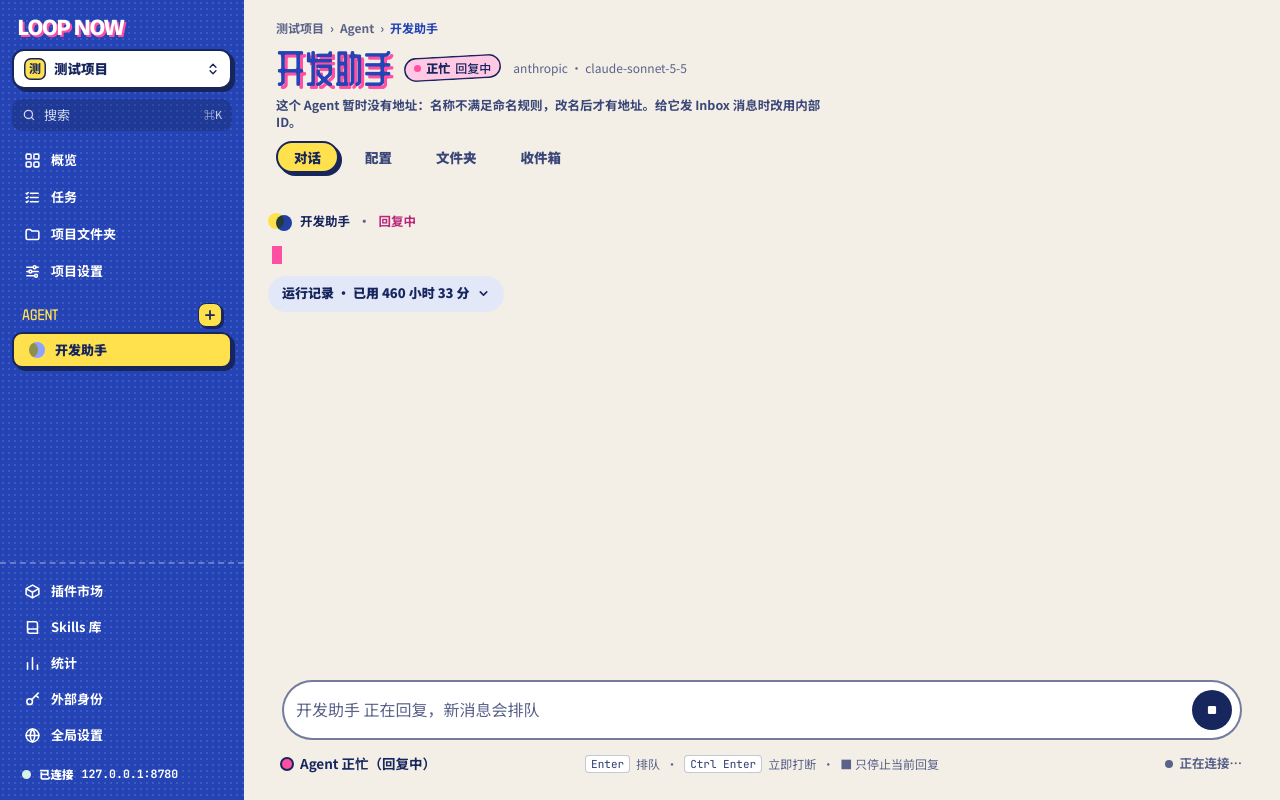
it: 发送消息 › 忙时排队发送也只留下发送期间新输入的文字
Expected: the element showing "开发助手 · 回复中 运行记录 · 已用 460 小时 33 分" is shown, 268,213 -> 504,312
Type "排队的话" into the text box labelled "消息". click: {"x": 738, "y": 710}
box: 292,690 -> 1184,730
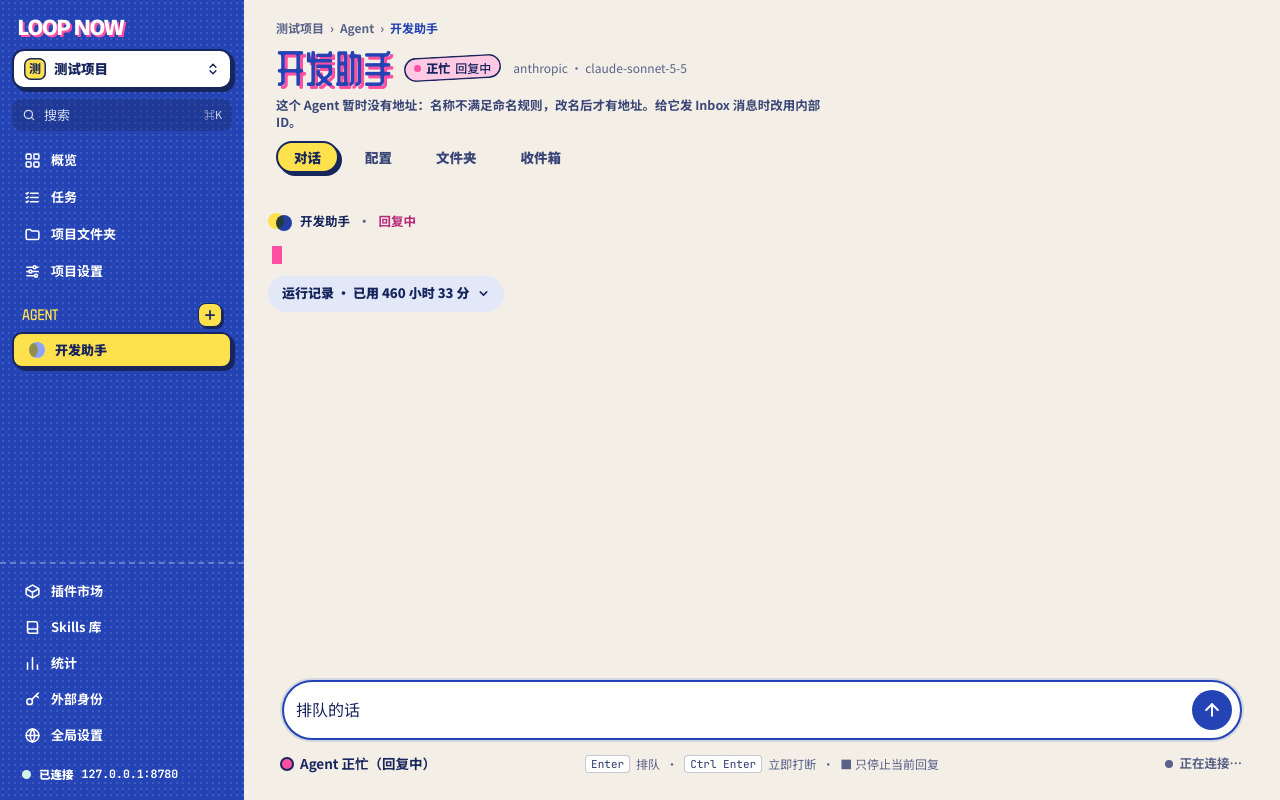
Click the button named "排队发送". click: {"x": 1212, "y": 710}
box: 1192,690 -> 1232,730
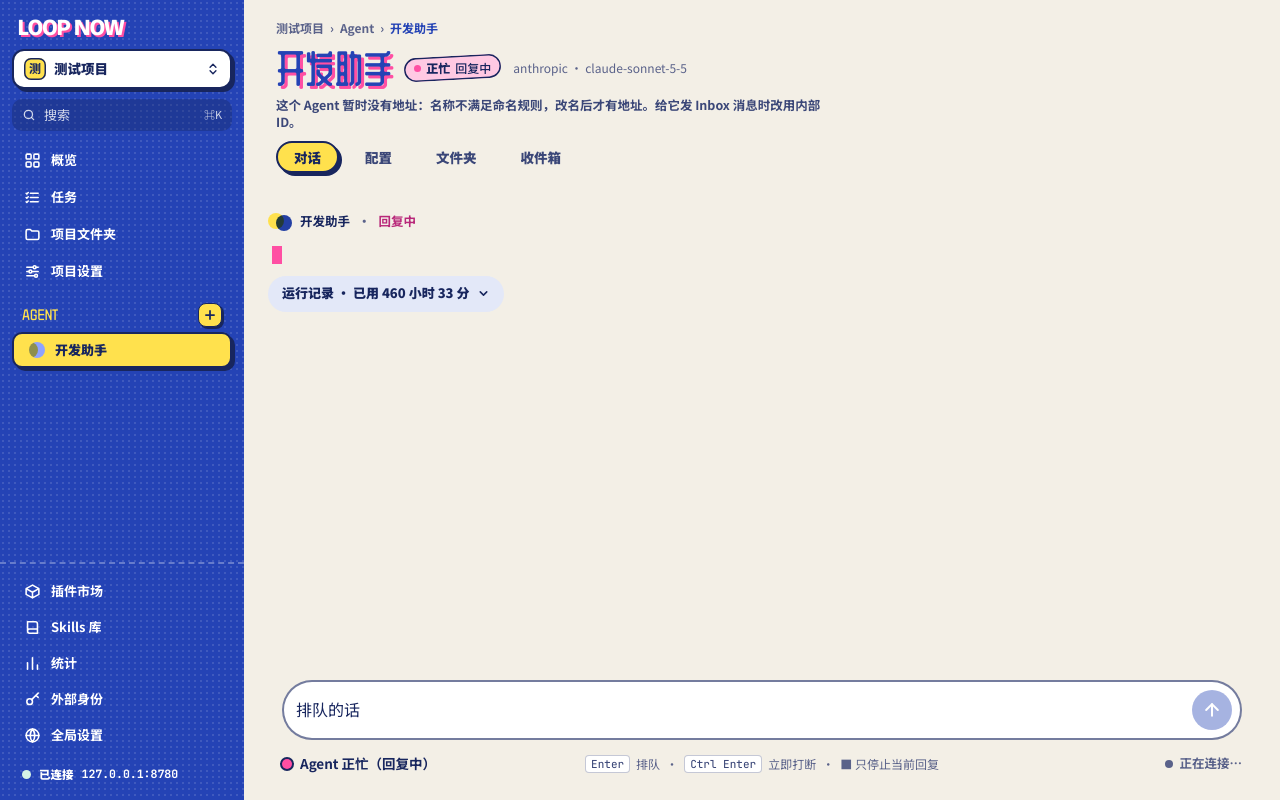
Type "，还有一句" into the text box named "消息". click: {"x": 738, "y": 710}
box: 292,690 -> 1184,730
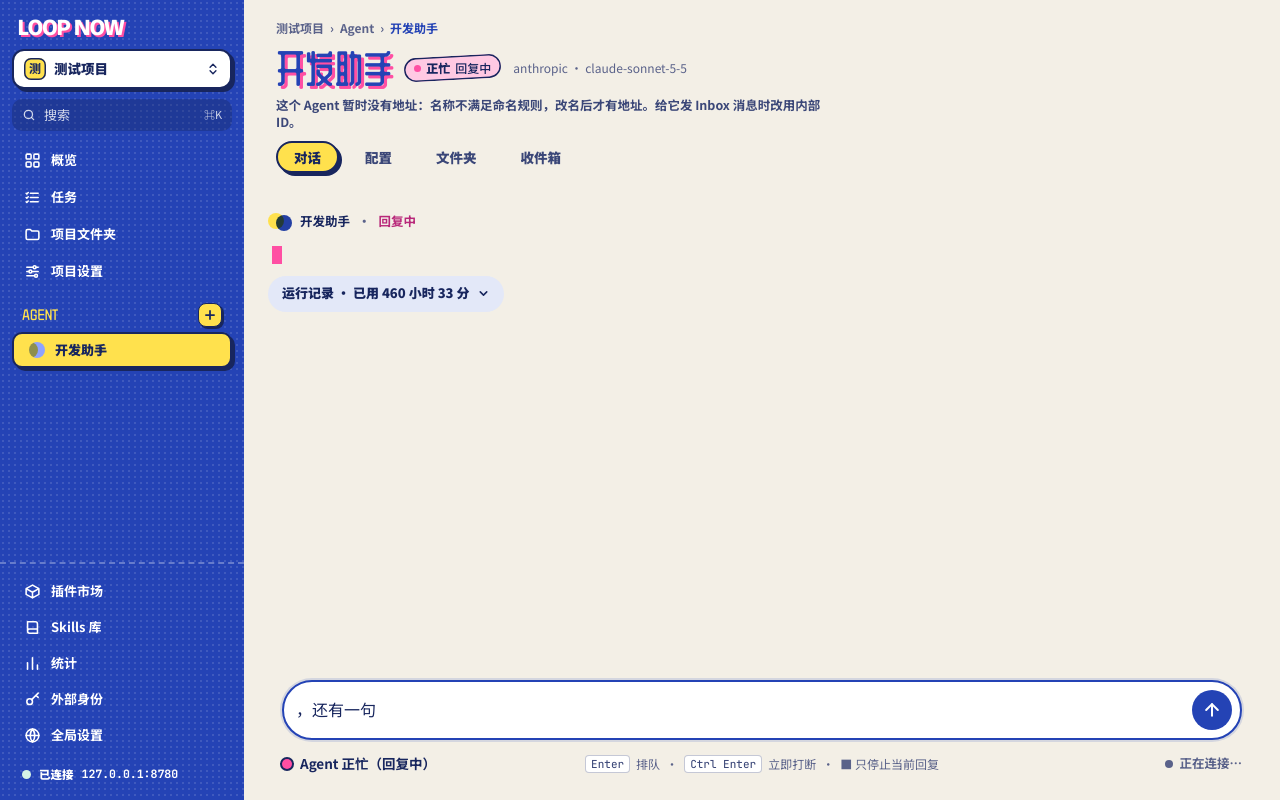
Expected: the button named "排队发送" is enabled, 1192,690 -> 1232,730
